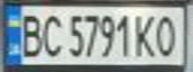1: (115, 11, 133, 57)
5: (63, 10, 84, 57)
7: (81, 10, 100, 57)
9: (97, 11, 118, 58)
B: (15, 10, 45, 58)
C: (39, 10, 66, 58)
K: (133, 10, 157, 58)
O: (151, 11, 181, 58)
